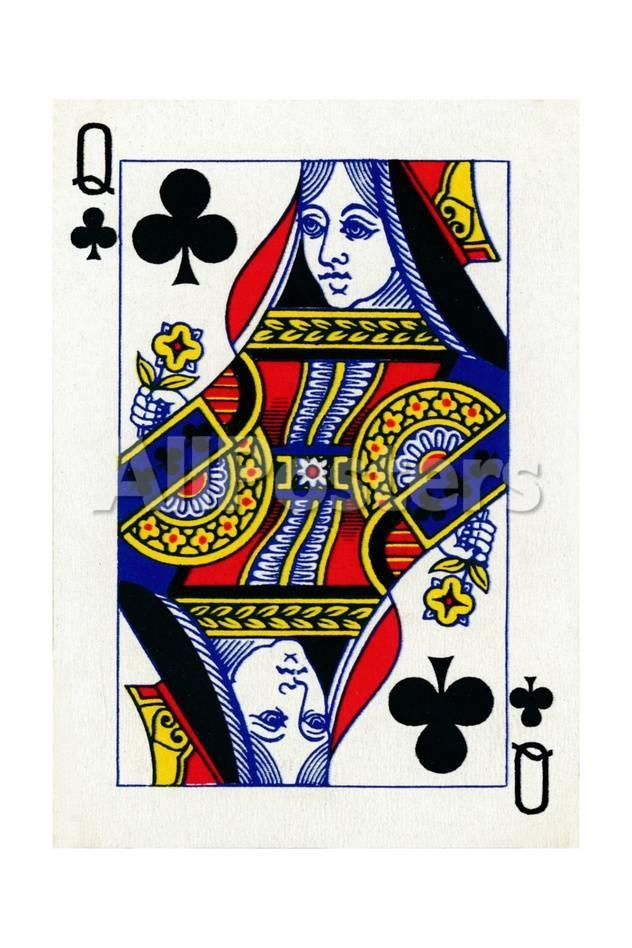queen of clubs: (50, 104, 573, 847)
